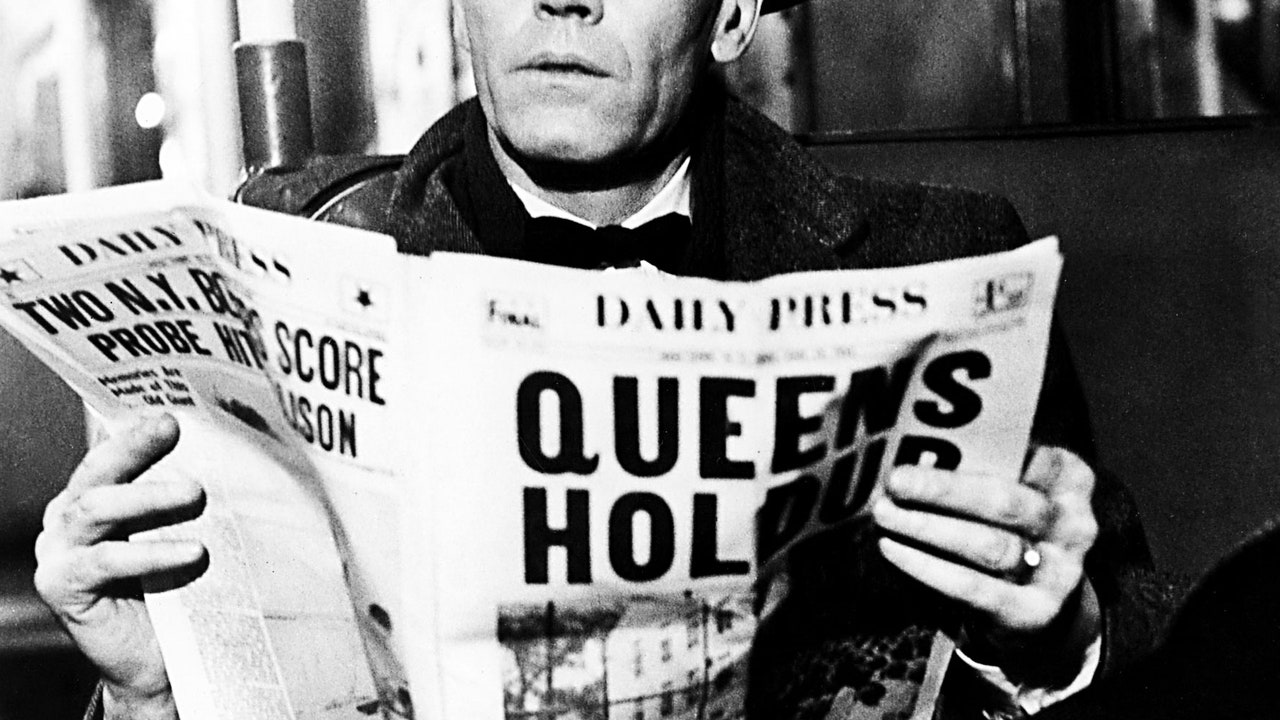news_paper: (1, 134, 1081, 720)
